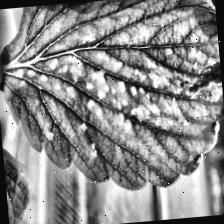Angular Leafspot: (9, 18, 224, 184)
